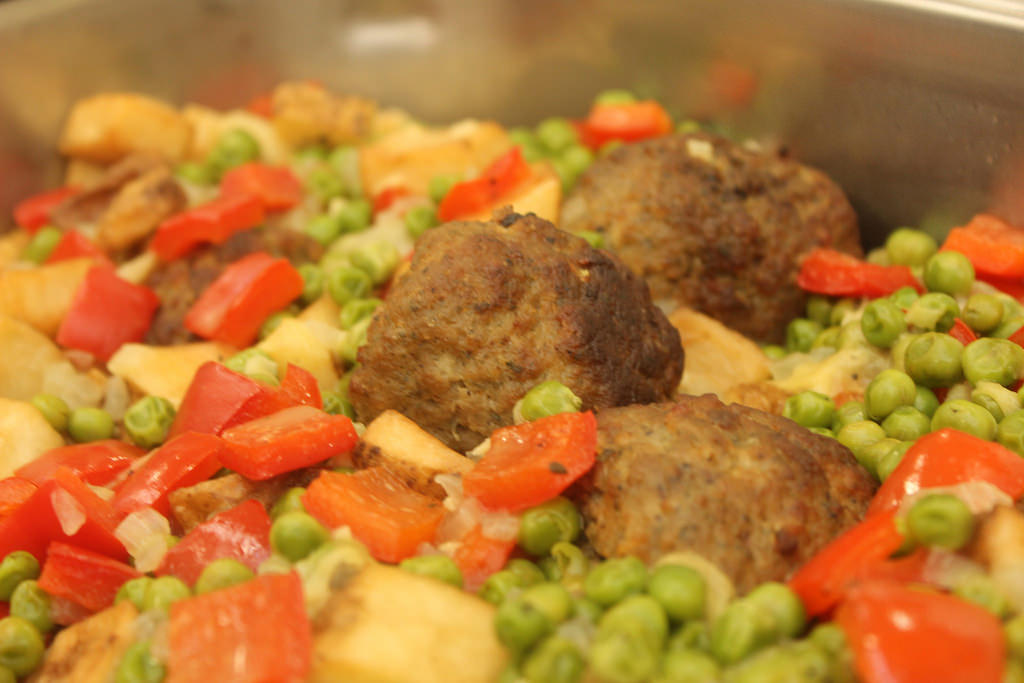boiled peas: (493, 509, 854, 675), (807, 299, 1024, 447), (2, 542, 57, 670), (54, 395, 173, 437), (274, 508, 329, 558)
meatballs: (357, 239, 708, 450), (584, 397, 882, 606), (564, 134, 864, 337)
